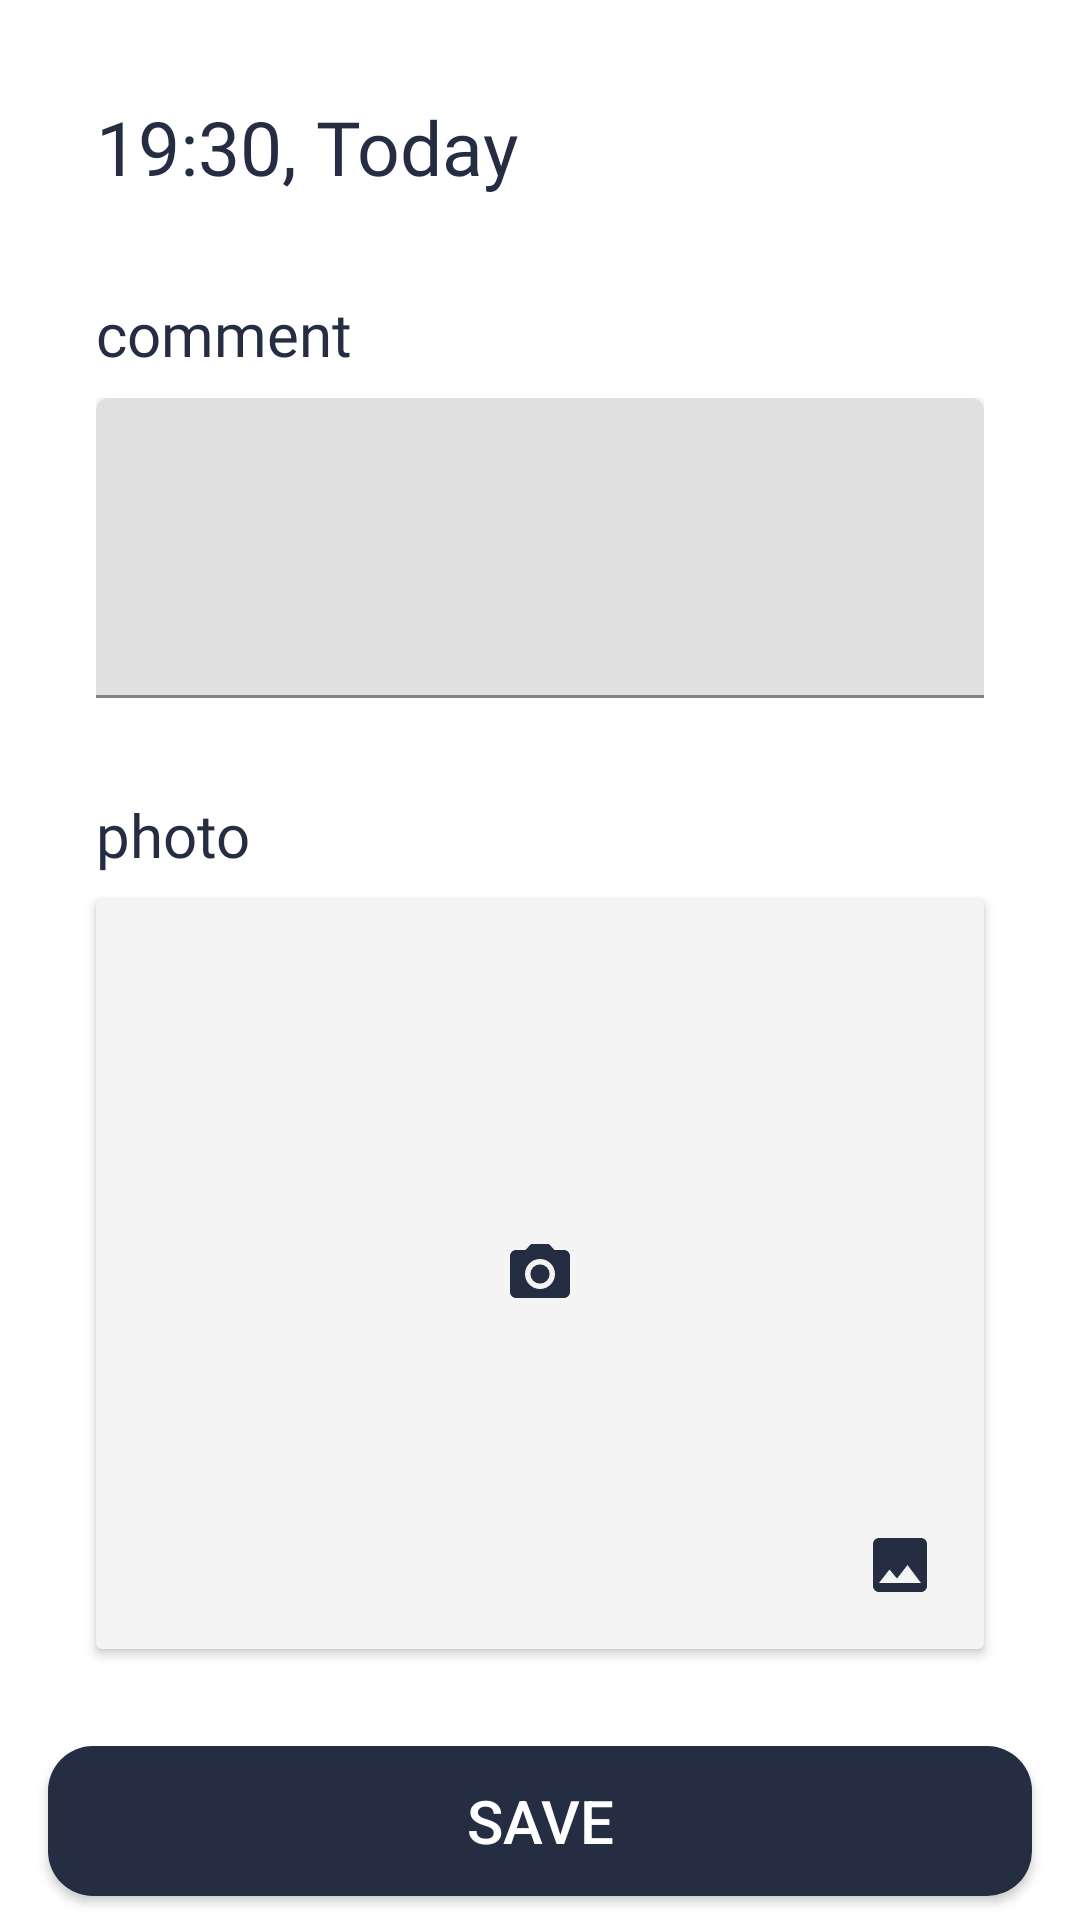

Screen size 1080 x 1920. Icon name, then its center in pixels as [x,y]:
camera: [540,1271]
